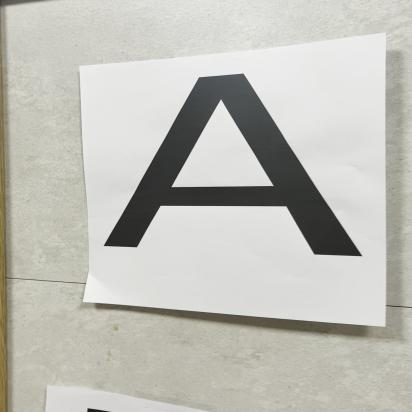seat: (106, 70, 378, 273)
